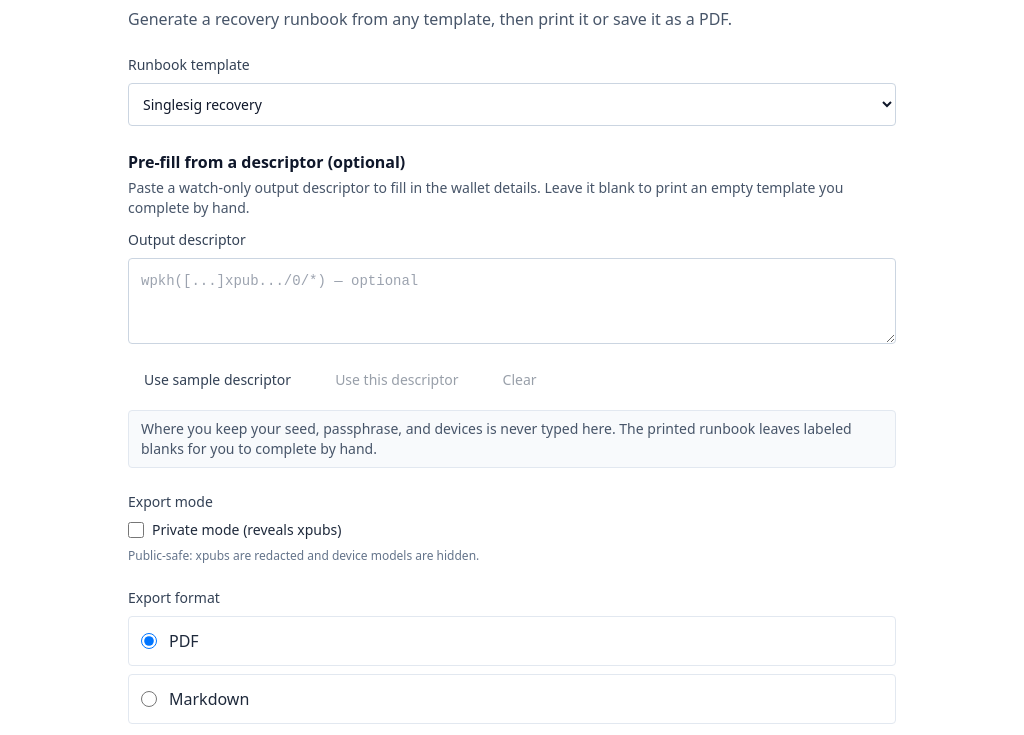
Scenario: Generate Runbook (US-052) › keeps public-safe when the §9.5 confirmation is cancelled
Click the checkbox labelled "Private mode (reveals xpubs)".
click(136, 530)  # box left=128, top=522, right=144, bottom=538
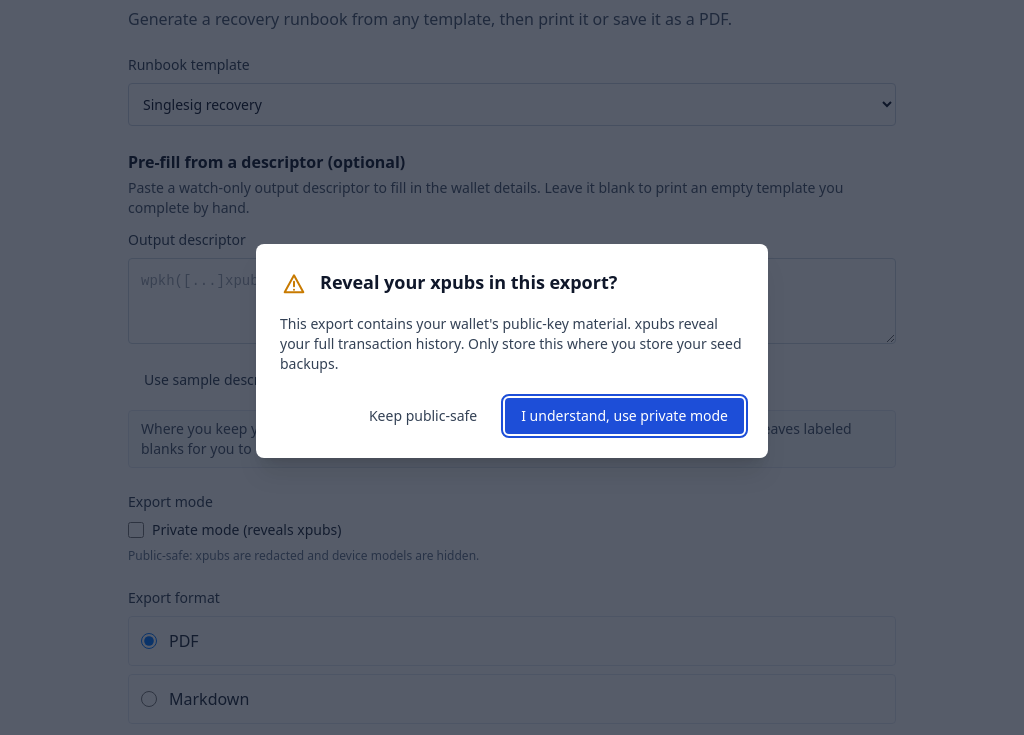
Click the button "Keep public-safe".
click(423, 416)  # box left=353, top=398, right=493, bottom=434
(page scrolled)
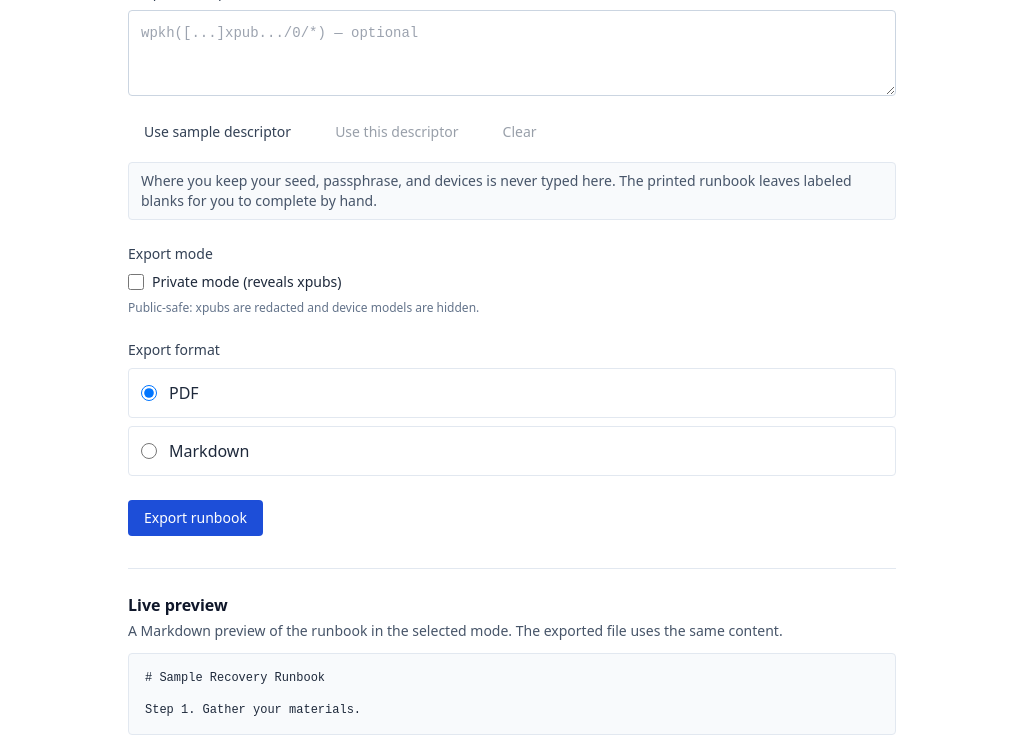
Expected: the checkbox labelled "Private mode (reveals xpubs)" is not checked, left=128, top=274, right=144, bottom=290
Now the dialog is gone
Click the button "Export runbook".
click(195, 518)  # box left=128, top=500, right=263, bottom=536
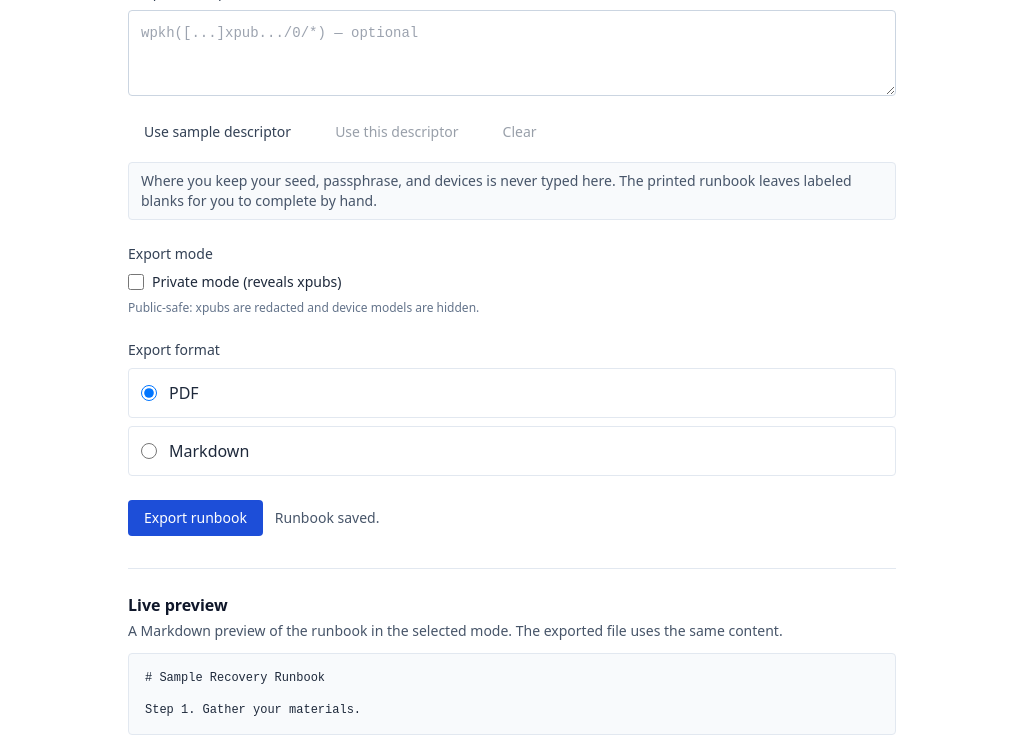
Now the text "Runbook saved." is shown, box left=275, top=508, right=380, bottom=528
